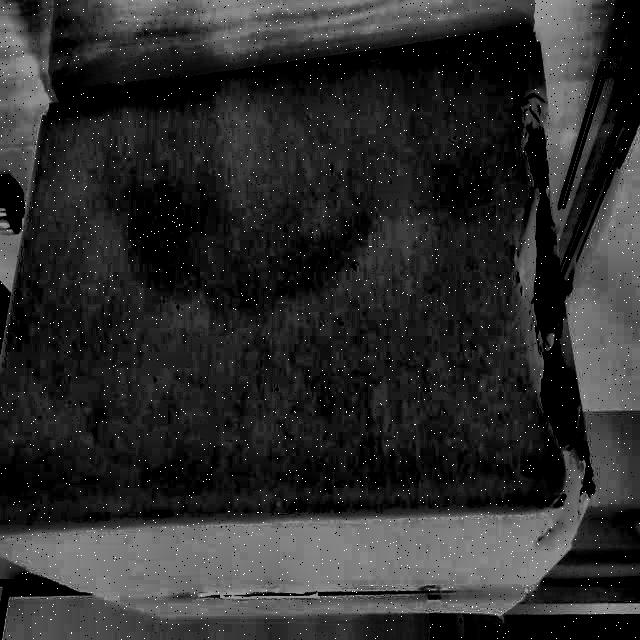box: (1, 9, 615, 630)
hole: (516, 104, 592, 497)
